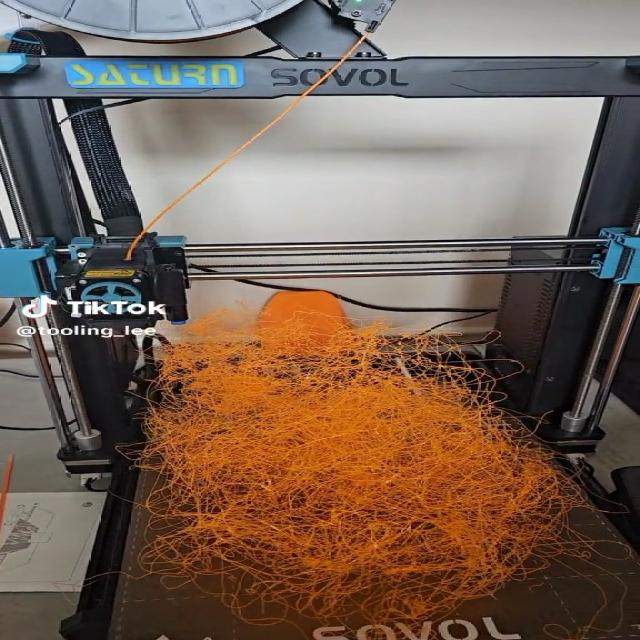spaghetti: (119, 296, 598, 633)
